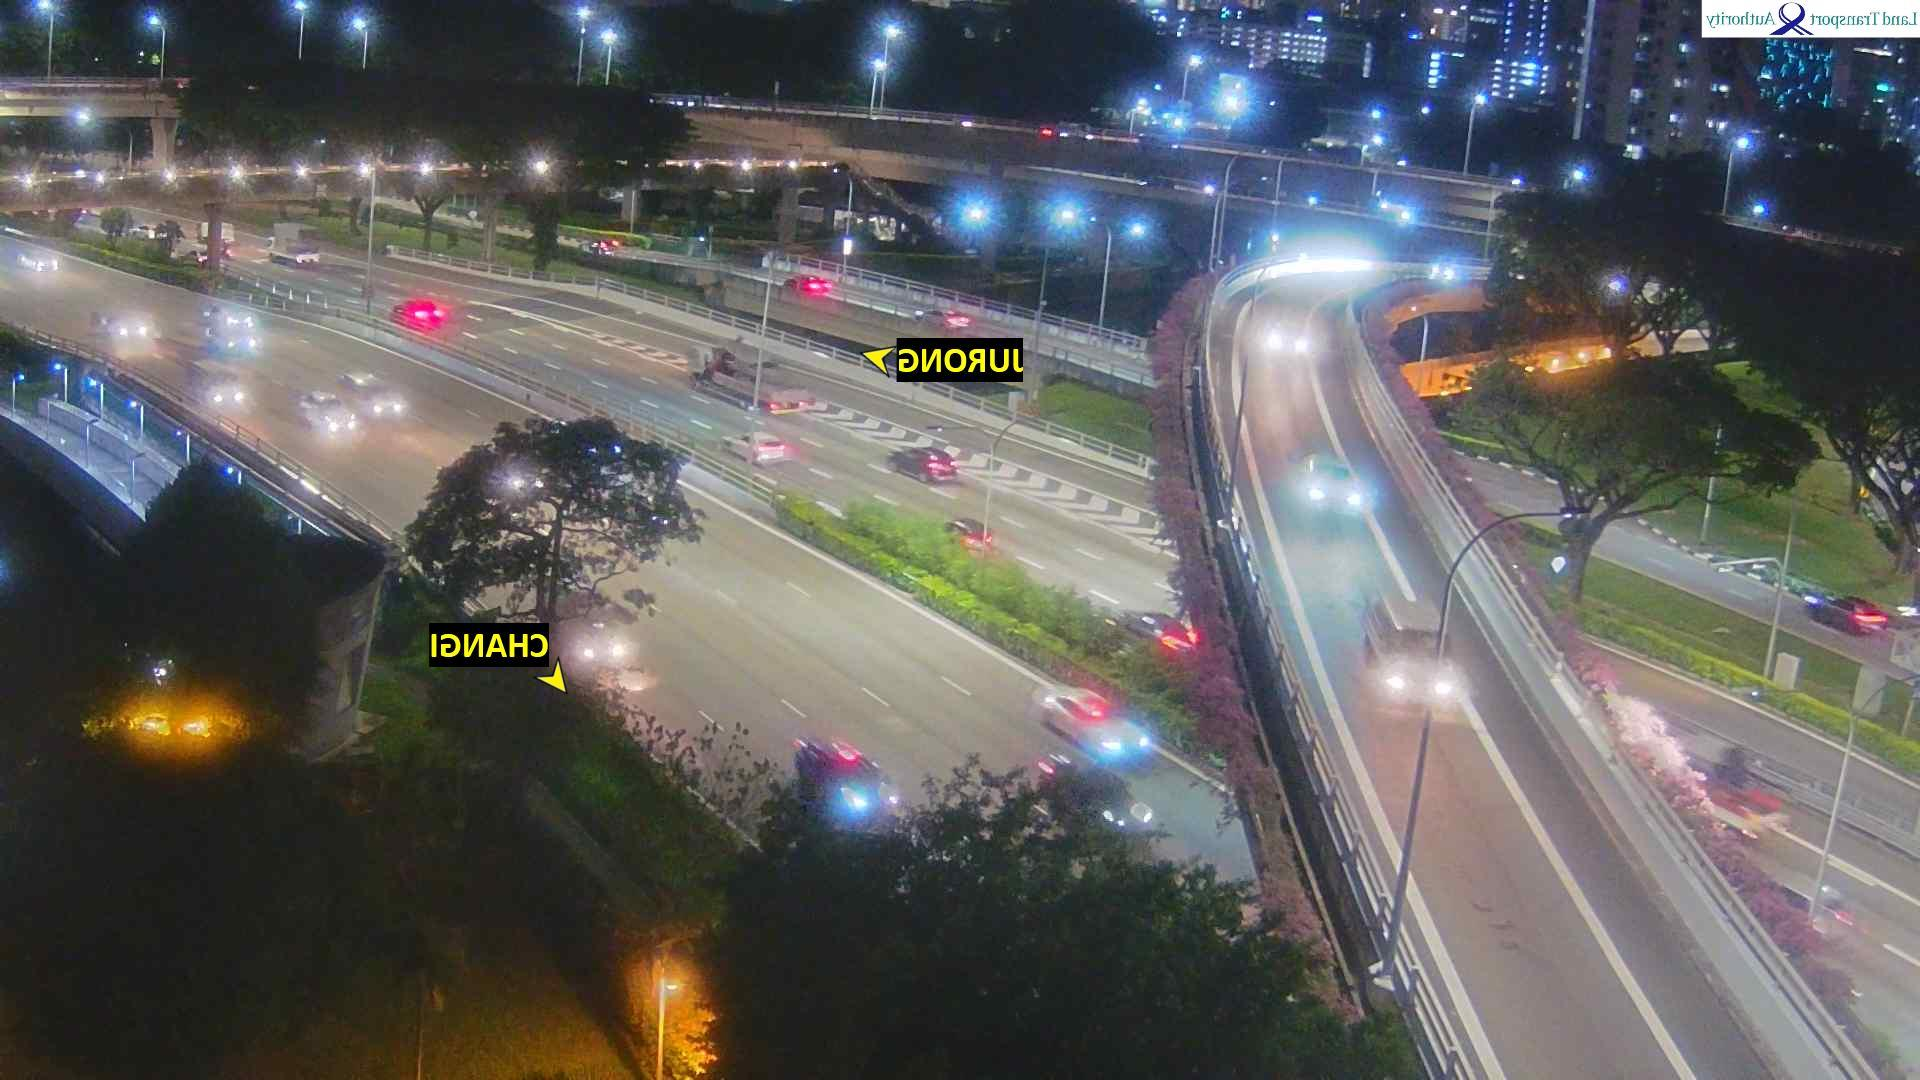incoming: (1374, 630, 1457, 711), (831, 758, 901, 825), (1072, 708, 1158, 762), (1295, 471, 1369, 521), (363, 378, 409, 423), (311, 400, 359, 440), (206, 372, 248, 415), (34, 252, 58, 278)
